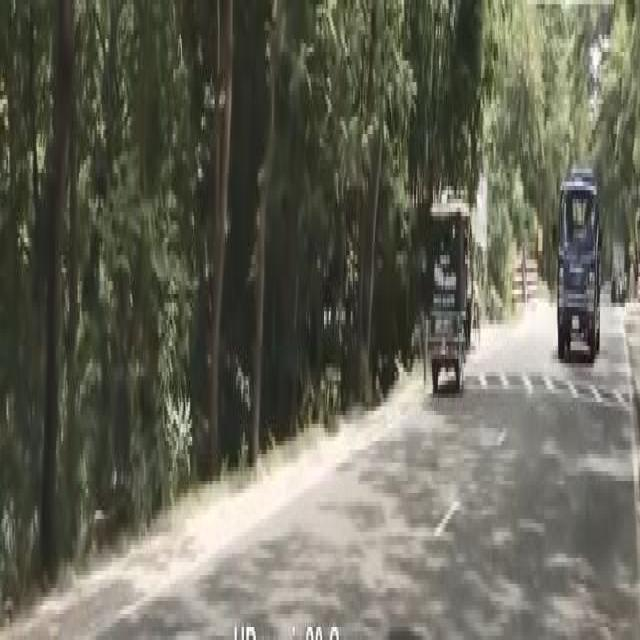auto rickshaw: (426, 194, 470, 385)
pickup: (558, 167, 600, 361)
